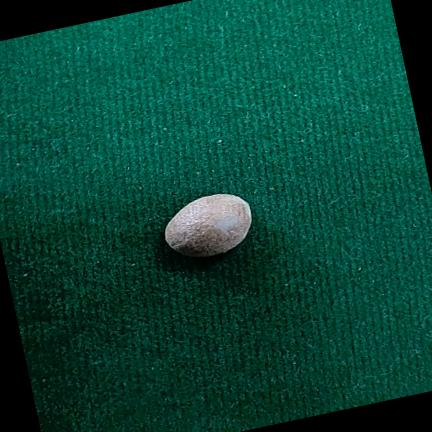husk: (165, 194, 252, 257)
